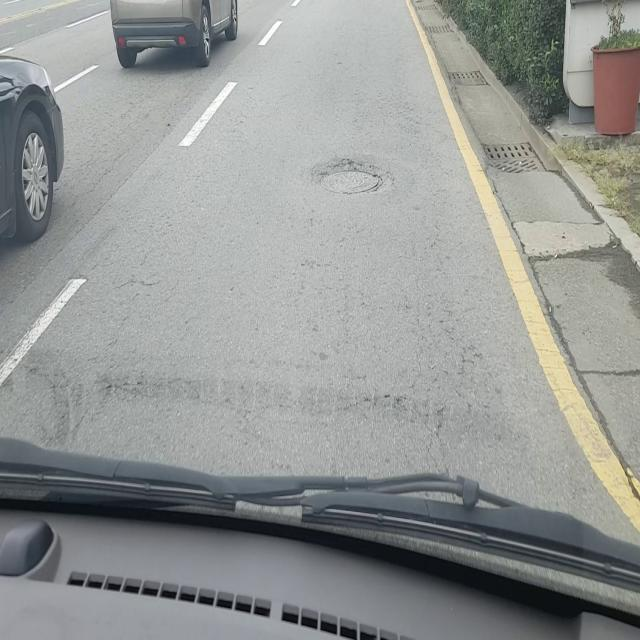Pothole: (309, 156, 393, 196)
